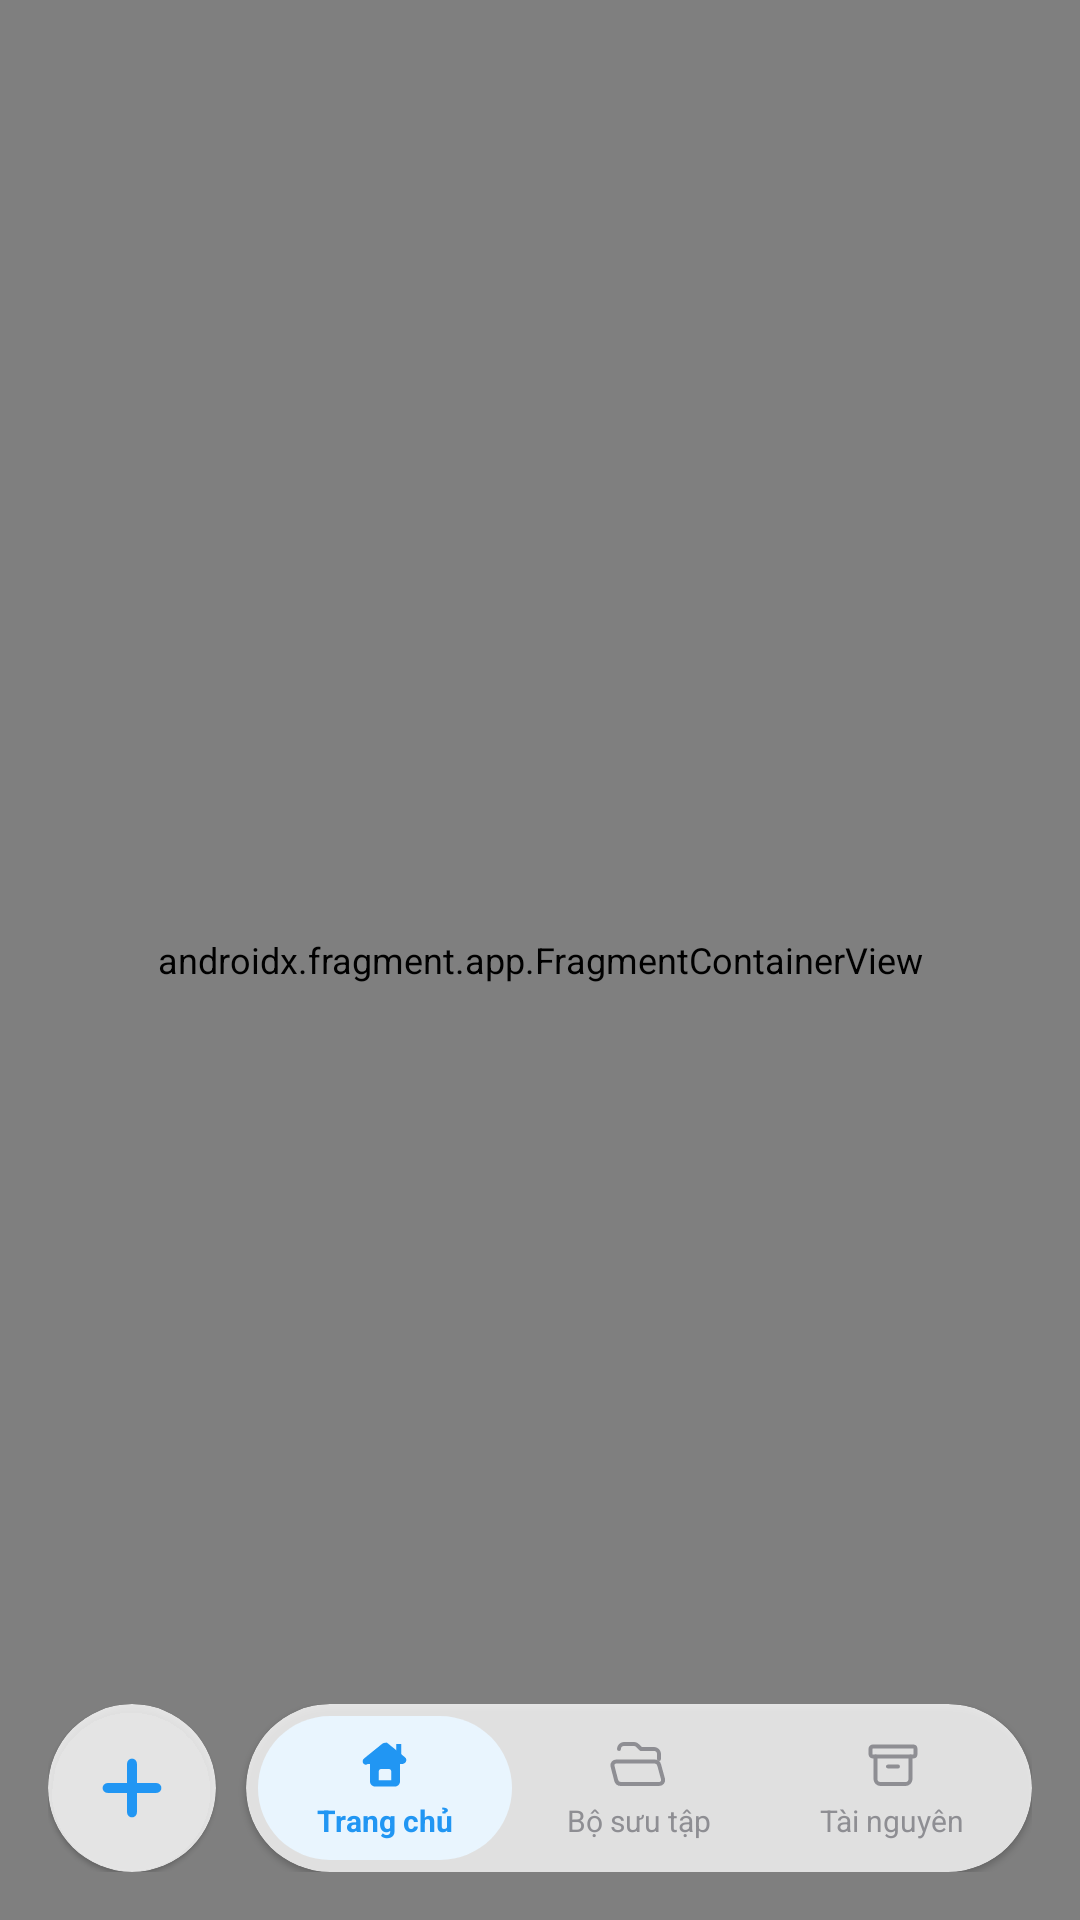

Screen size 1080x1920. Icon name, then its box in pixels as (x1, y1, x2, y2):
Tạo Sticker: (48, 1704, 216, 1872)
